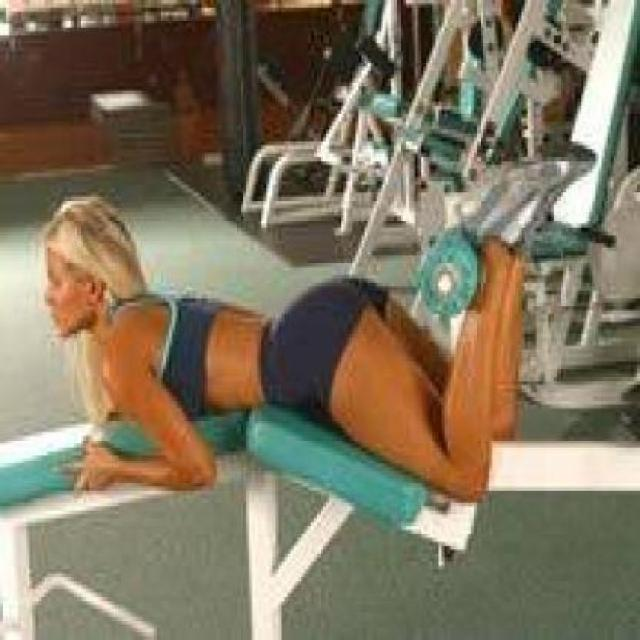reg curl machine: (0, 138, 585, 640)
